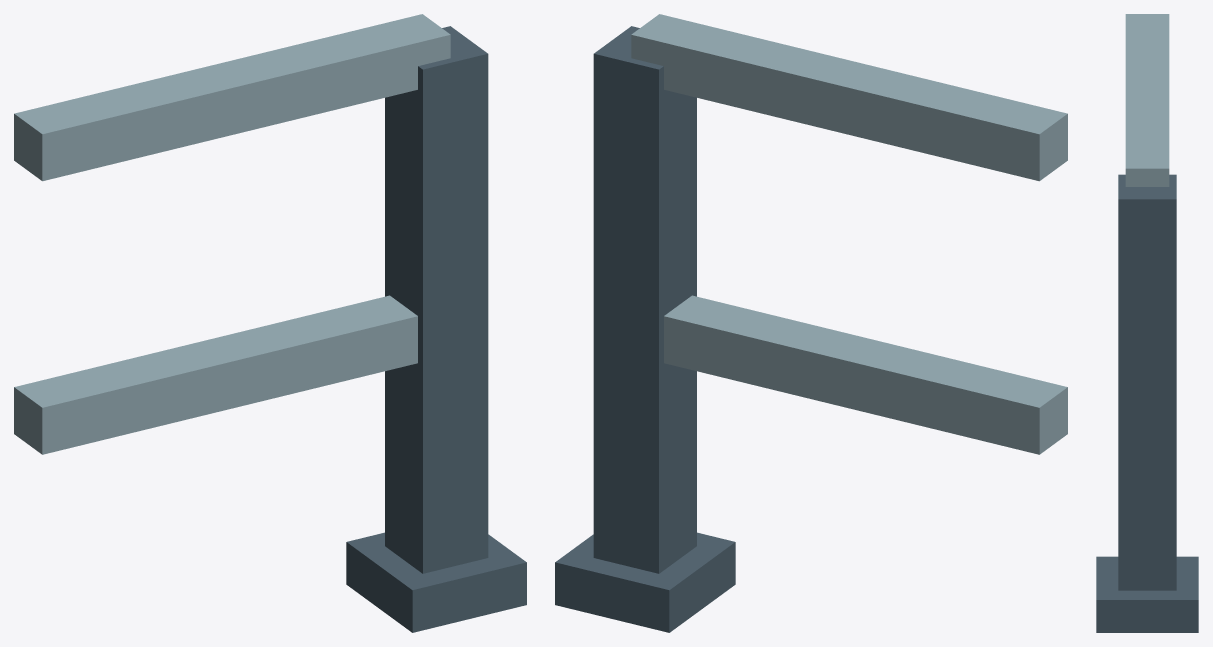
File: rail_end.glb
The picture shows the model from 3 angles, left to right: view 1: azimuth 30°, elevation 25°; view 2: azimuth 150°, elevation 25°; view 3: azimuth 270°, elevation 25°; orthographic projection. The views are drawn at different scales.
Parts seen in each view (by area): view 1: Post, EndRail.001, EndRail, Foot; view 2: Post, EndRail.001, EndRail, Foot; view 3: Post, EndRail.001, Foot.
Part boxes in pixels (box(x1,y1,x2,y2)): Post: box(385, 26, 488, 573); EndRail.001: box(14, 14, 450, 181); EndRail: box(14, 295, 417, 454); Foot: box(346, 532, 526, 632); Post: box(593, 26, 696, 573); EndRail.001: box(631, 14, 1067, 181); EndRail: box(664, 295, 1067, 454); Foot: box(555, 532, 735, 632); Post: box(1118, 174, 1176, 590); EndRail.001: box(1125, 14, 1169, 186); Foot: box(1096, 556, 1198, 632).
Size of the model in its own units: 1.14 by 1.33 by 0.28.
